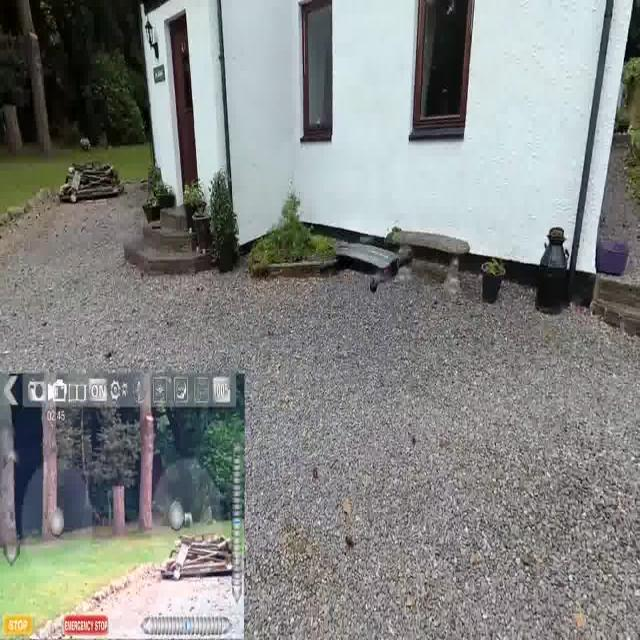drone: (318, 236, 416, 296)
